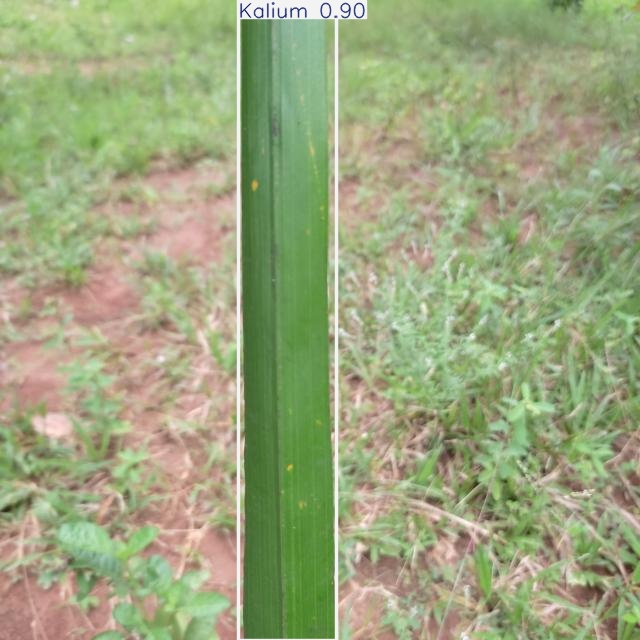Kalium: (239, 0, 336, 640)
